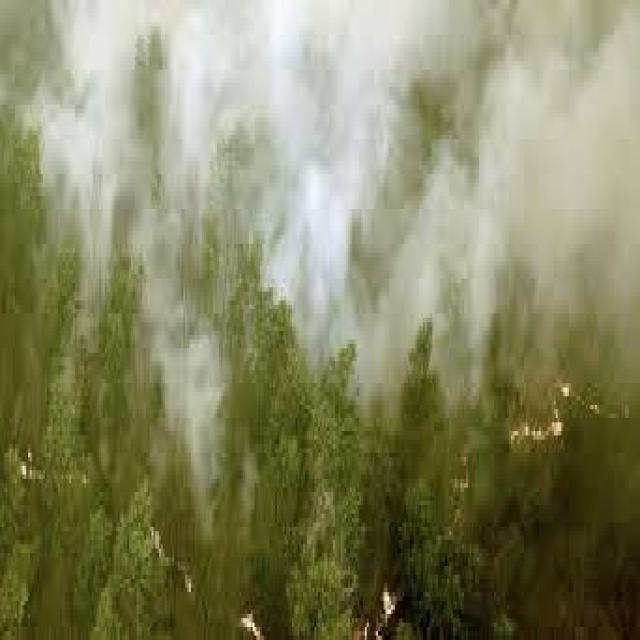Smoke: (36, 0, 636, 402)
